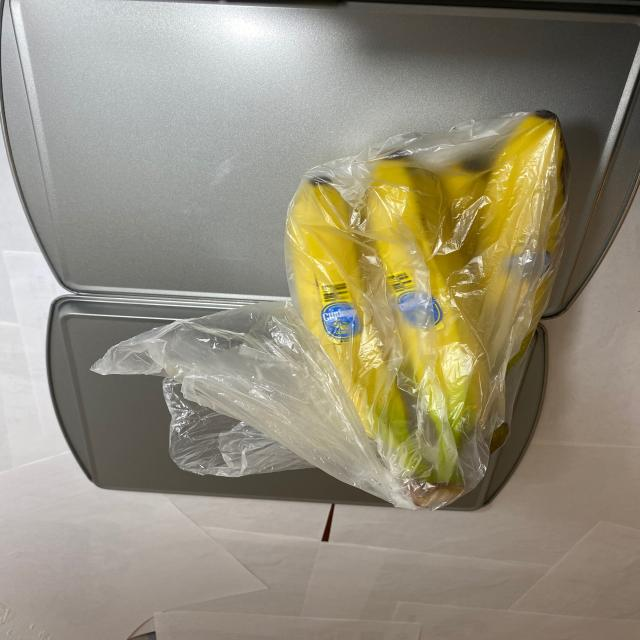banana: (265, 112, 574, 510)
